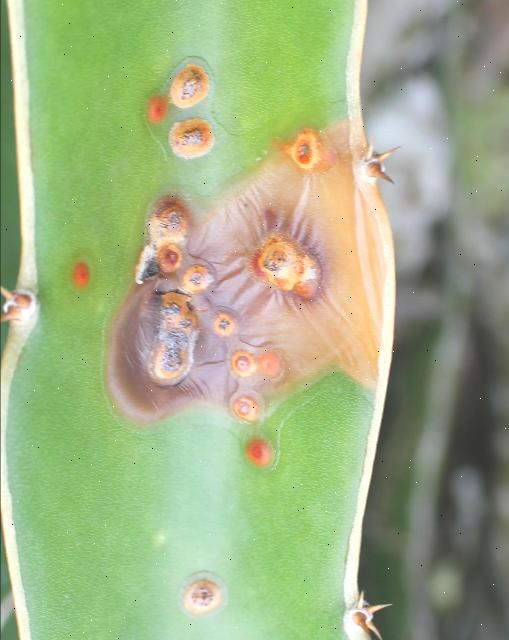stemcanker: (94, 40, 396, 473)
